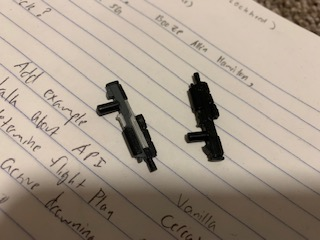rifle: (96, 79, 161, 174), (181, 72, 226, 165)
